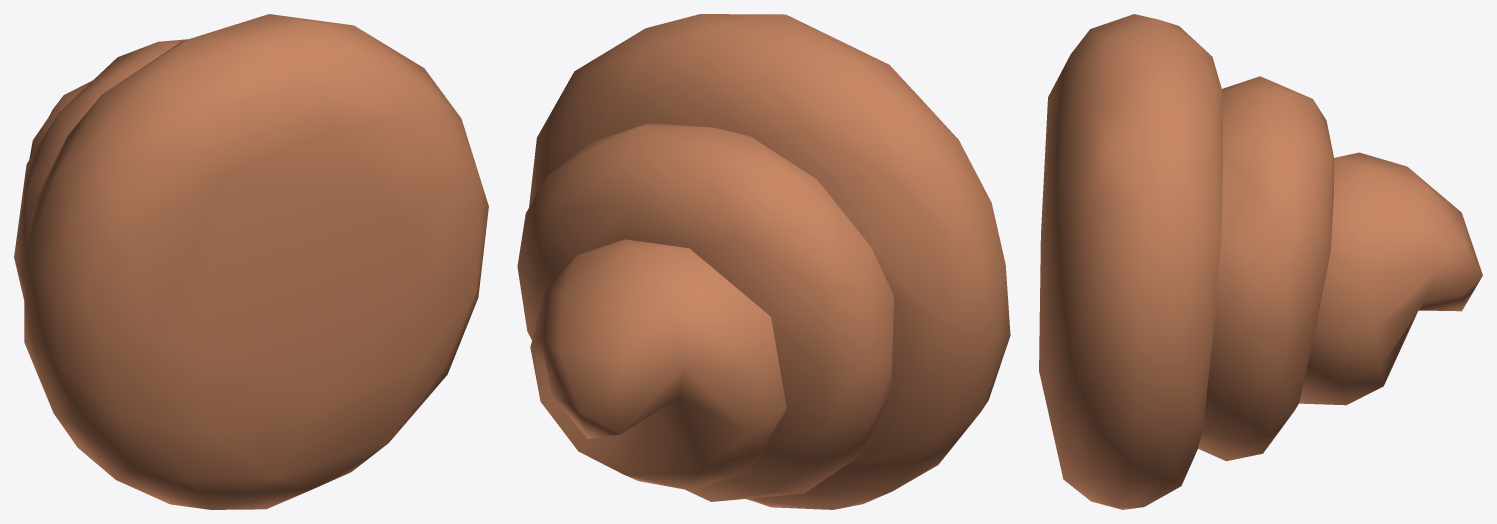
Rendered from BulletNormal_Shit.fbx.
3 views of the same model, side by side, from view 1: azimuth 30°, elevation 25°; view 2: azimuth 150°, elevation 25°; view 3: azimuth 270°, elevation 25° (orthographic). The views are drawn at different scales.
Parts seen in each view (by area): view 1: SM_Shit; view 2: SM_Shit; view 3: SM_Shit.
Part boxes in pixels (x1,y1,x2,y2): SM_Shit: (14, 14, 488, 509); SM_Shit: (517, 14, 1010, 509); SM_Shit: (1039, 14, 1482, 509).
Bounding box in the file's own units: 0.2474 × 0.245 × 0.2212.
